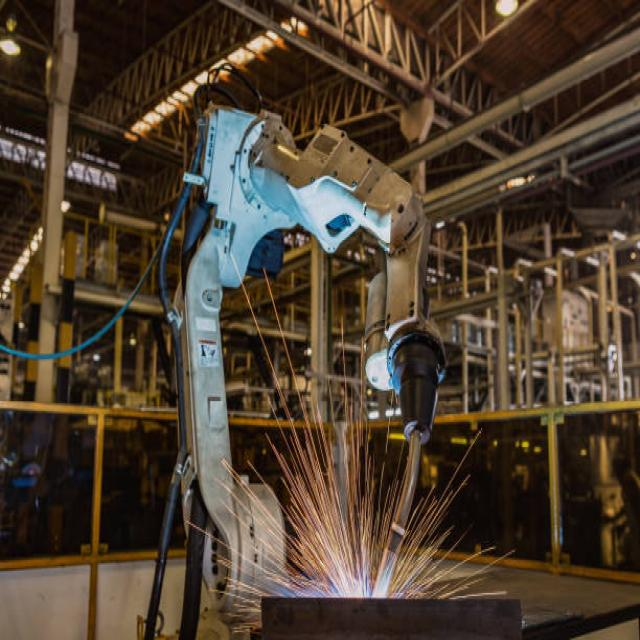Robotic-arm: (159, 93, 439, 584)
